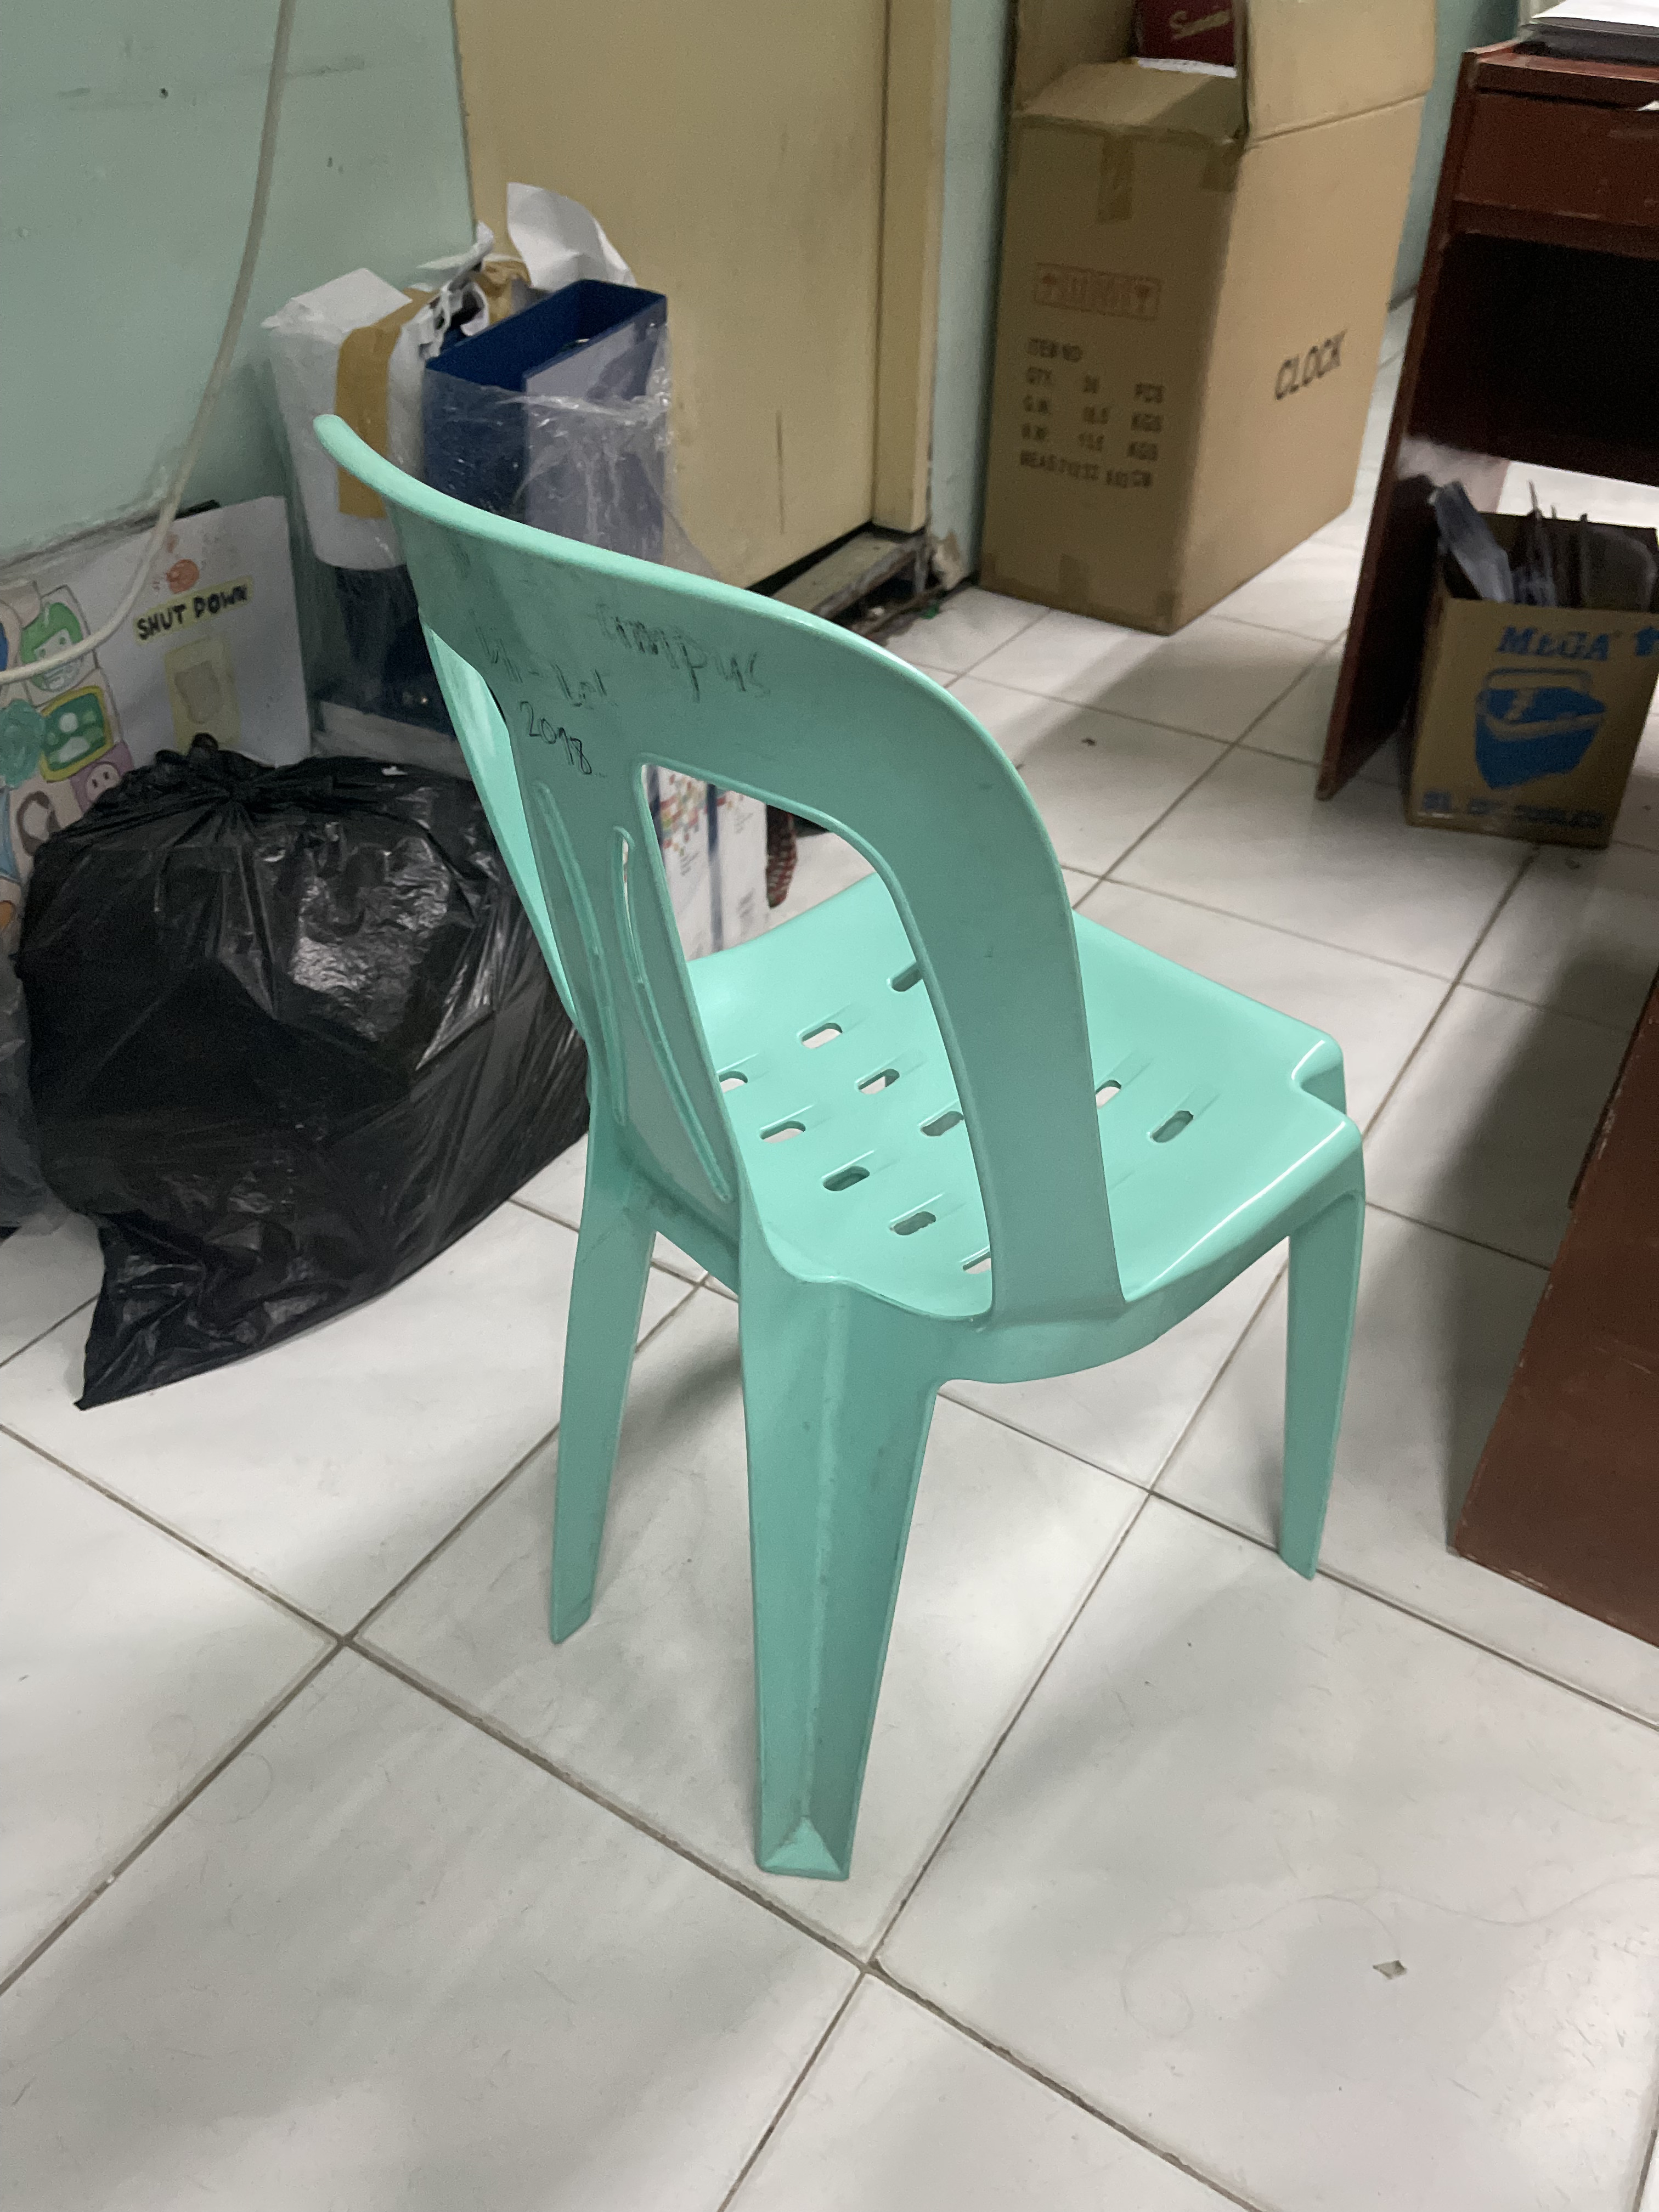chair2: (307, 394, 1382, 1895)
